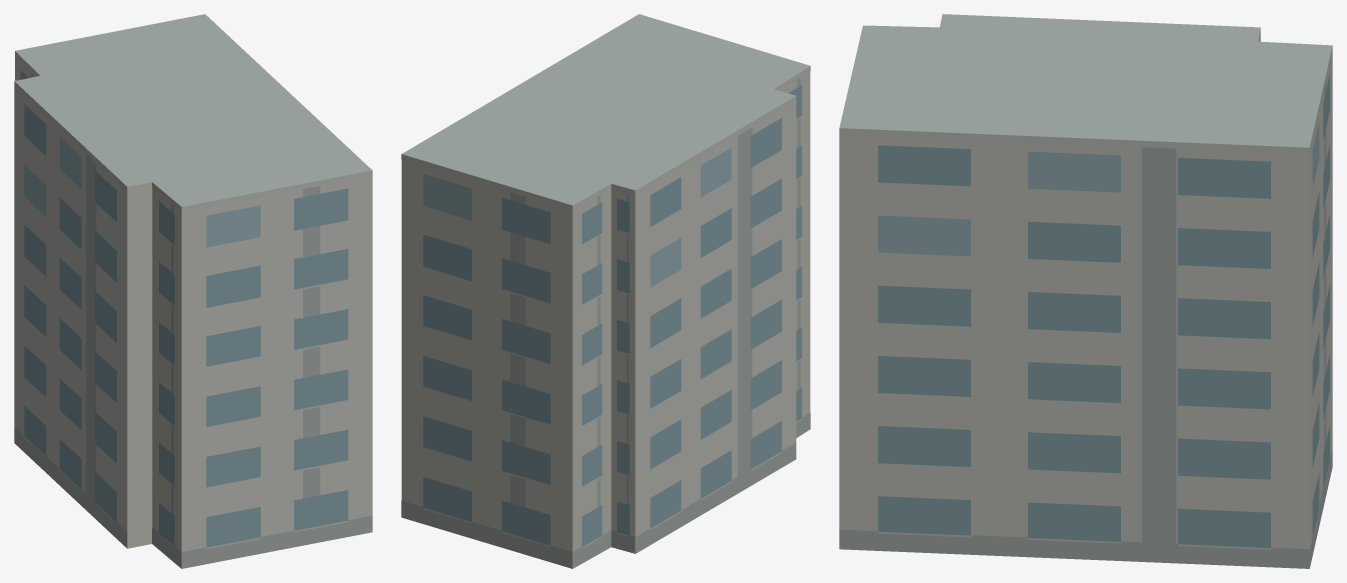
Rendered from survey-upis-33007672.glb.
3 views of the same model, side by side, from view 1: azimuth 30°, elevation 25°; view 2: azimuth 150°, elevation 25°; view 3: azimuth 270°, elevation 25° (orthographic). The views are drawn at different scales.
Parts seen in each view (by area): view 1: survey-upis-33007672.tmp; view 2: survey-upis-33007672.tmp; view 3: survey-upis-33007672.tmp.
Part boxes in pixels (box(x1,y1,x2,y2)): survey-upis-33007672.tmp: box(14, 14, 372, 568); survey-upis-33007672.tmp: box(401, 14, 810, 568); survey-upis-33007672.tmp: box(839, 14, 1332, 568).
Size of the model in its own units: 10.97 by 16.1 by 17.1.
